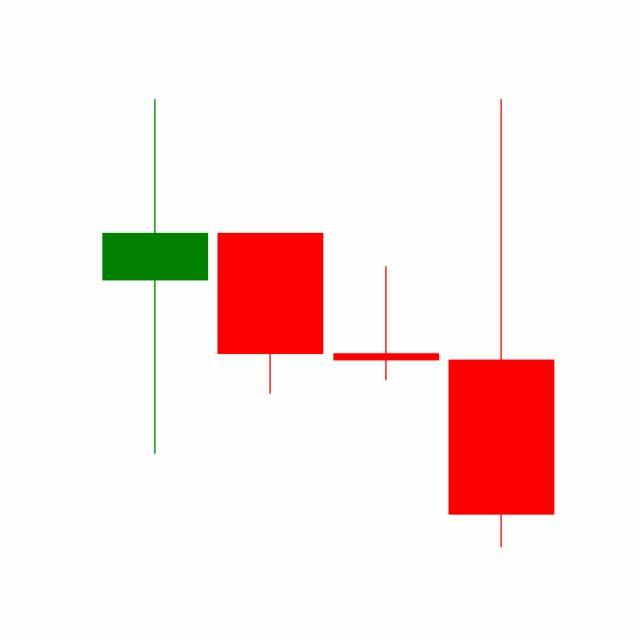Gravestone Doji: (329, 265, 445, 383)
